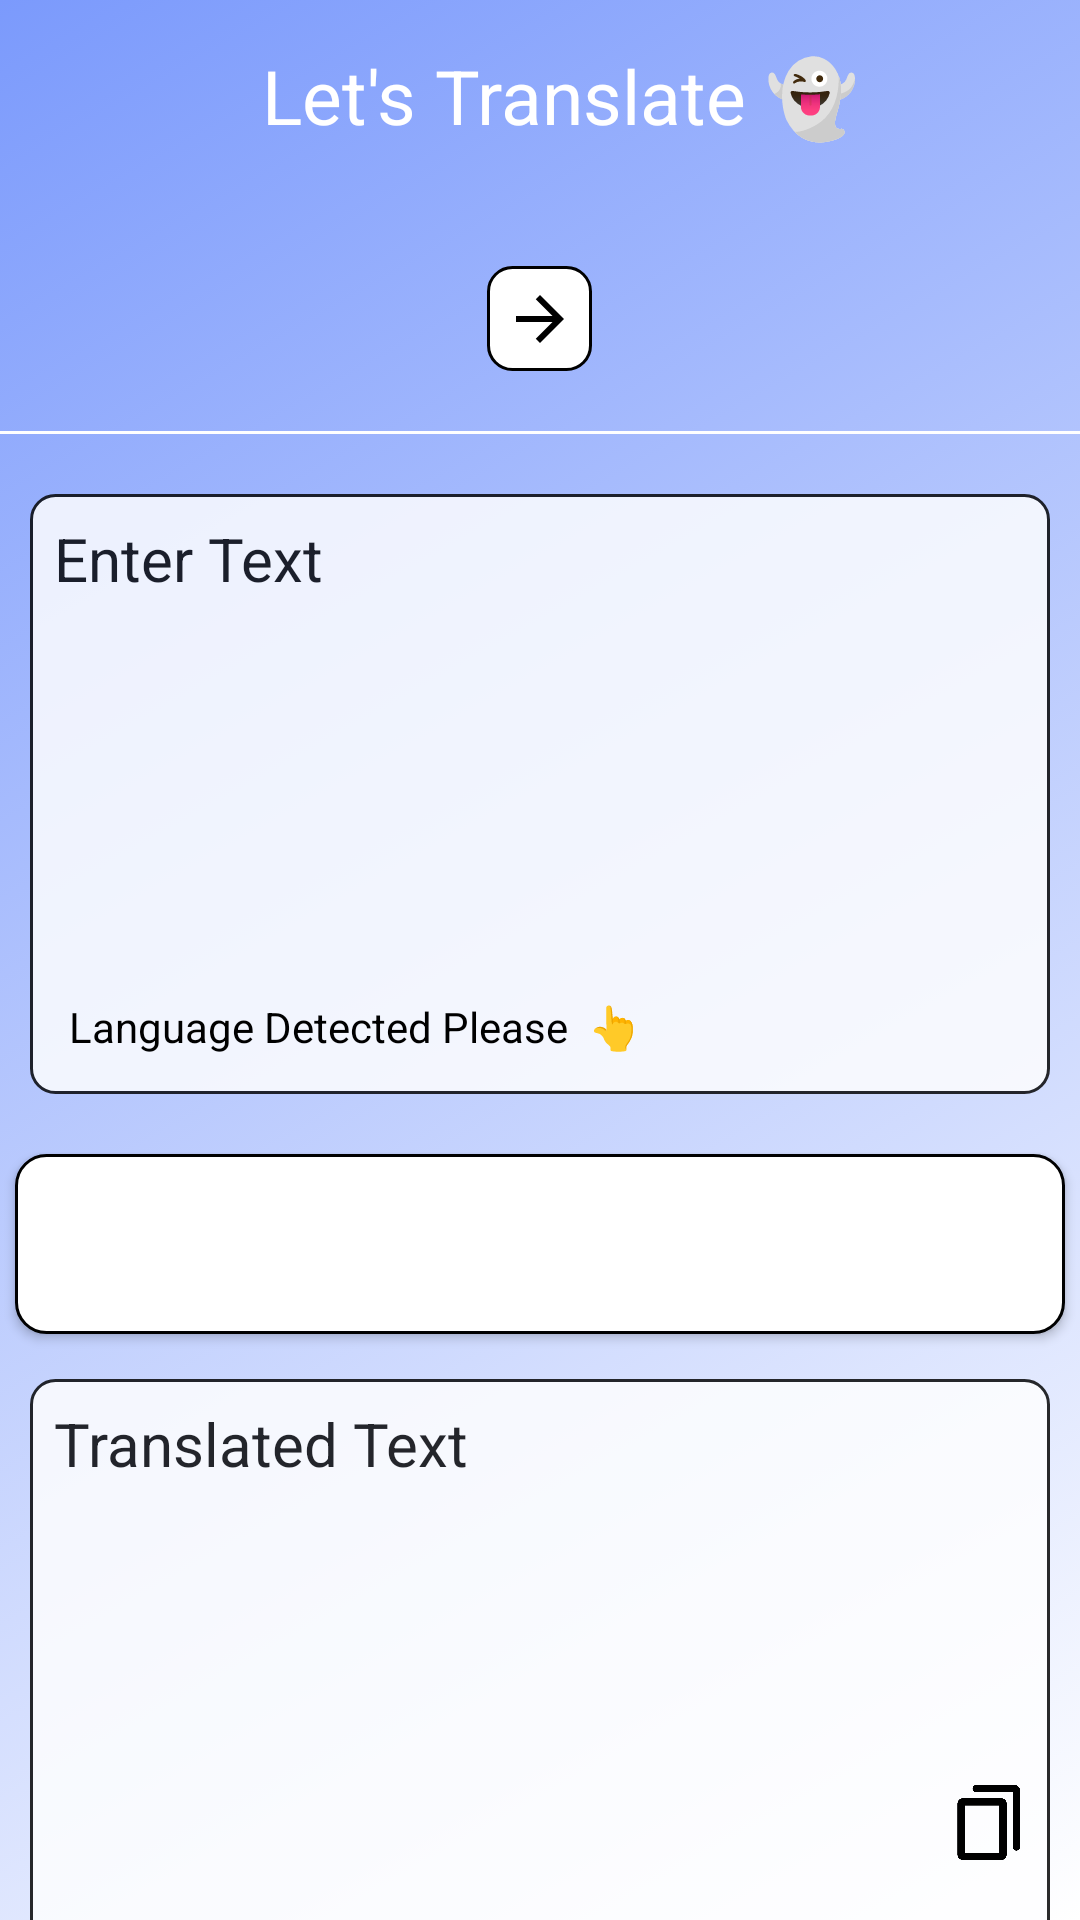

Icons on this 1080px x 1920px Android screen, each with its box as {"left": x1, "top": y1, "right": x2, "bottom": y2}:
forward: {"left": 487, "top": 266, "right": 592, "bottom": 371}
